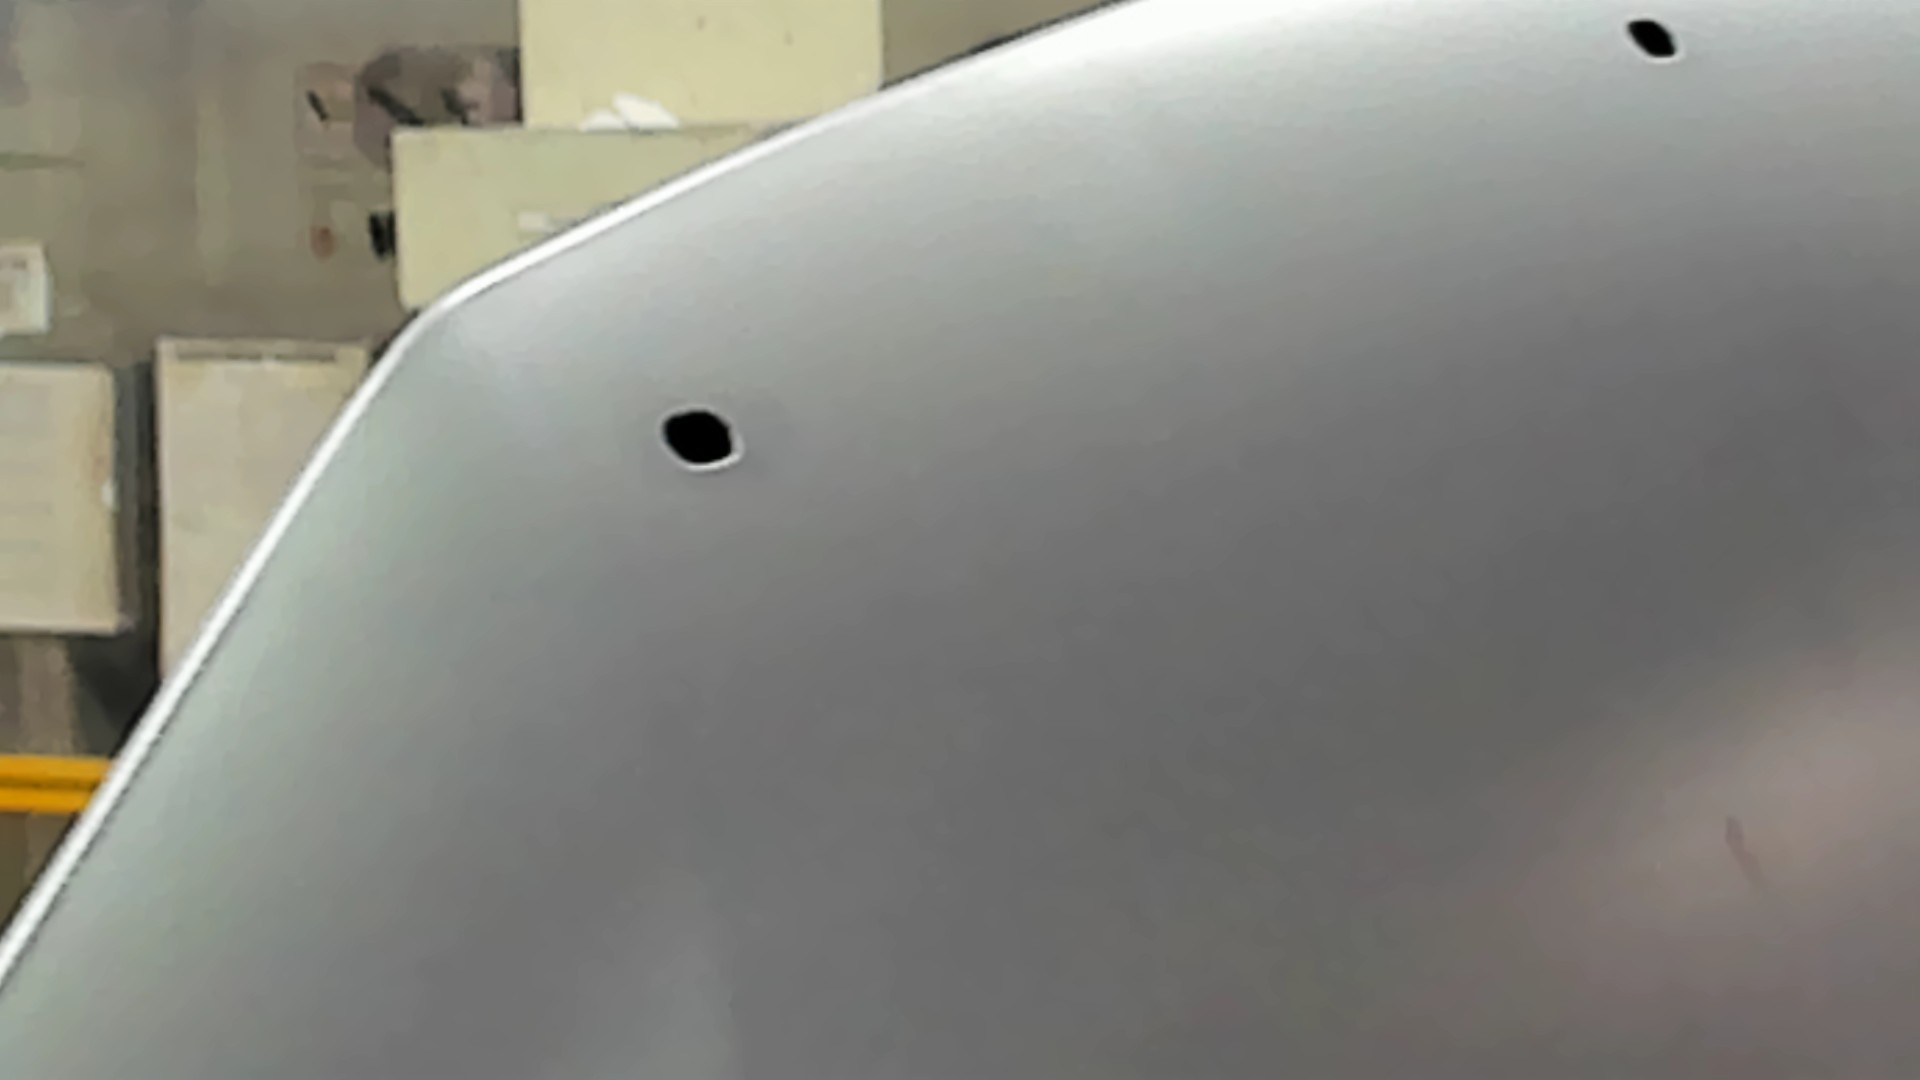amorfo: (645, 400, 745, 487), (1615, 11, 1696, 70)
capo: (852, 167, 1920, 1080)
